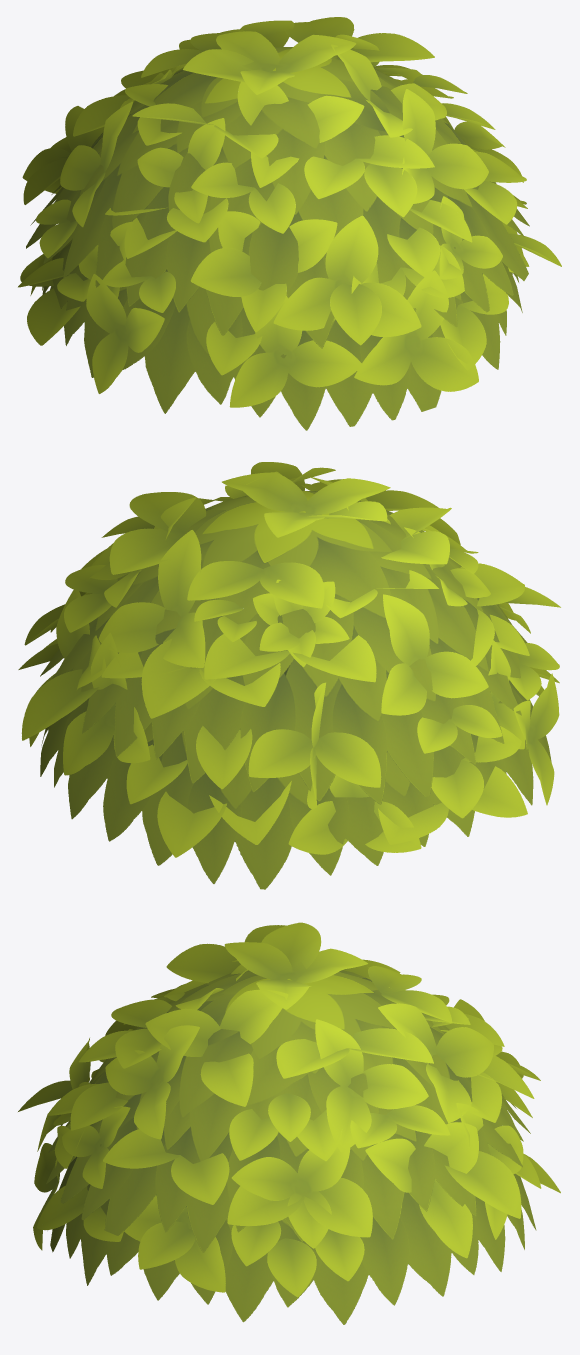
The model's file is bush.fbx.
The picture shows the model from 3 angles, top to bottom: view 1: azimuth 30°, elevation 25°; view 2: azimuth 150°, elevation 25°; view 3: azimuth 270°, elevation 25°; orthographic projection. The views are drawn at different scales.
Parts seen in each view (by area): view 1: pCylinder4; view 2: pCylinder4; view 3: pCylinder4.
Part boxes in pixels (x1,y1,x2,y2): pCylinder4: (18,17,561,430); pCylinder4: (18,462,560,889); pCylinder4: (18,922,560,1324).
Size of the model in its own units: 1.35 by 0.7499 by 1.35.
